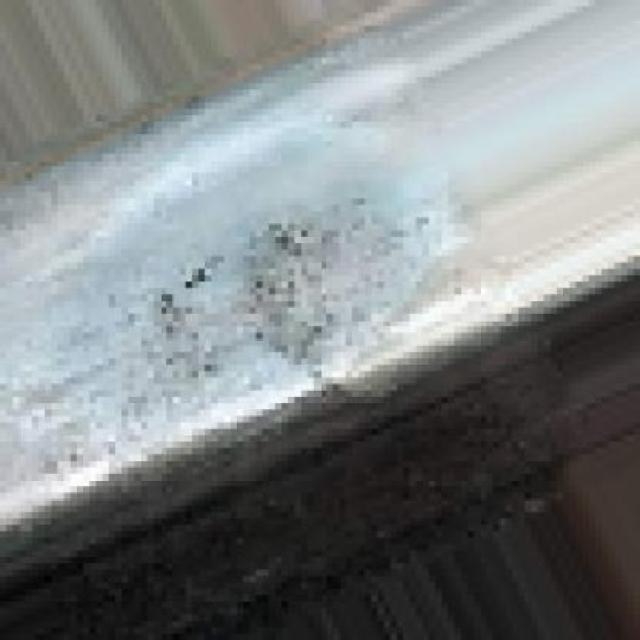defective: (6, 52, 640, 566)
